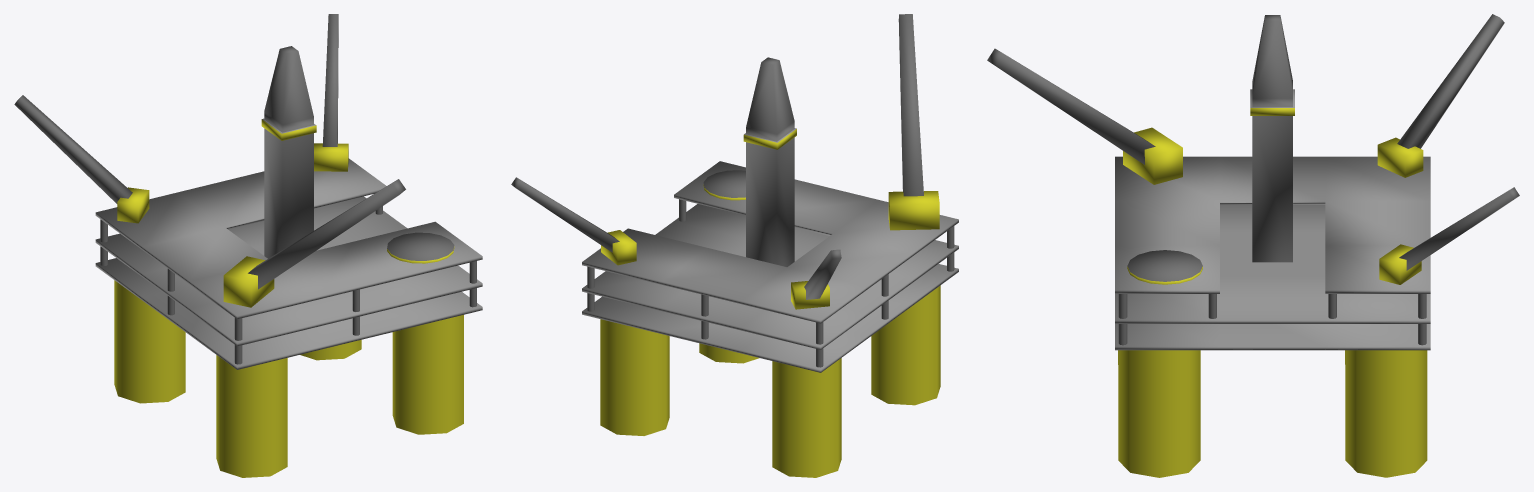
The model's file is OilPlatform_Prototype.fbx.
3 views of the same model, side by side, from view 1: azimuth 30°, elevation 25°; view 2: azimuth 150°, elevation 25°; view 3: azimuth 270°, elevation 25° (orthographic). The views are drawn at different scales.
Visible parts, largest first — view 1: Plane.010; view 2: Plane.010; view 3: Plane.010.
Boxes of the visible parts, x1=… form: Plane.010: x1=14, y1=14, x2=482, y2=477; Plane.010: x1=511, y1=14, x2=958, y2=477; Plane.010: x1=987, y1=14, x2=1519, y2=477.
Size of the model in its own units: 2.62 by 2.68 by 3.28.
